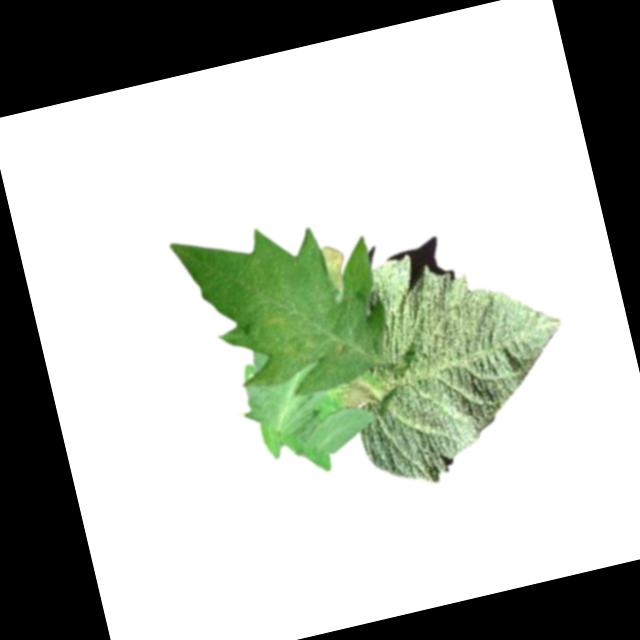Late_blight: (252, 300, 322, 376), (319, 241, 353, 296), (334, 373, 380, 413)
healthy: (323, 226, 588, 497)
